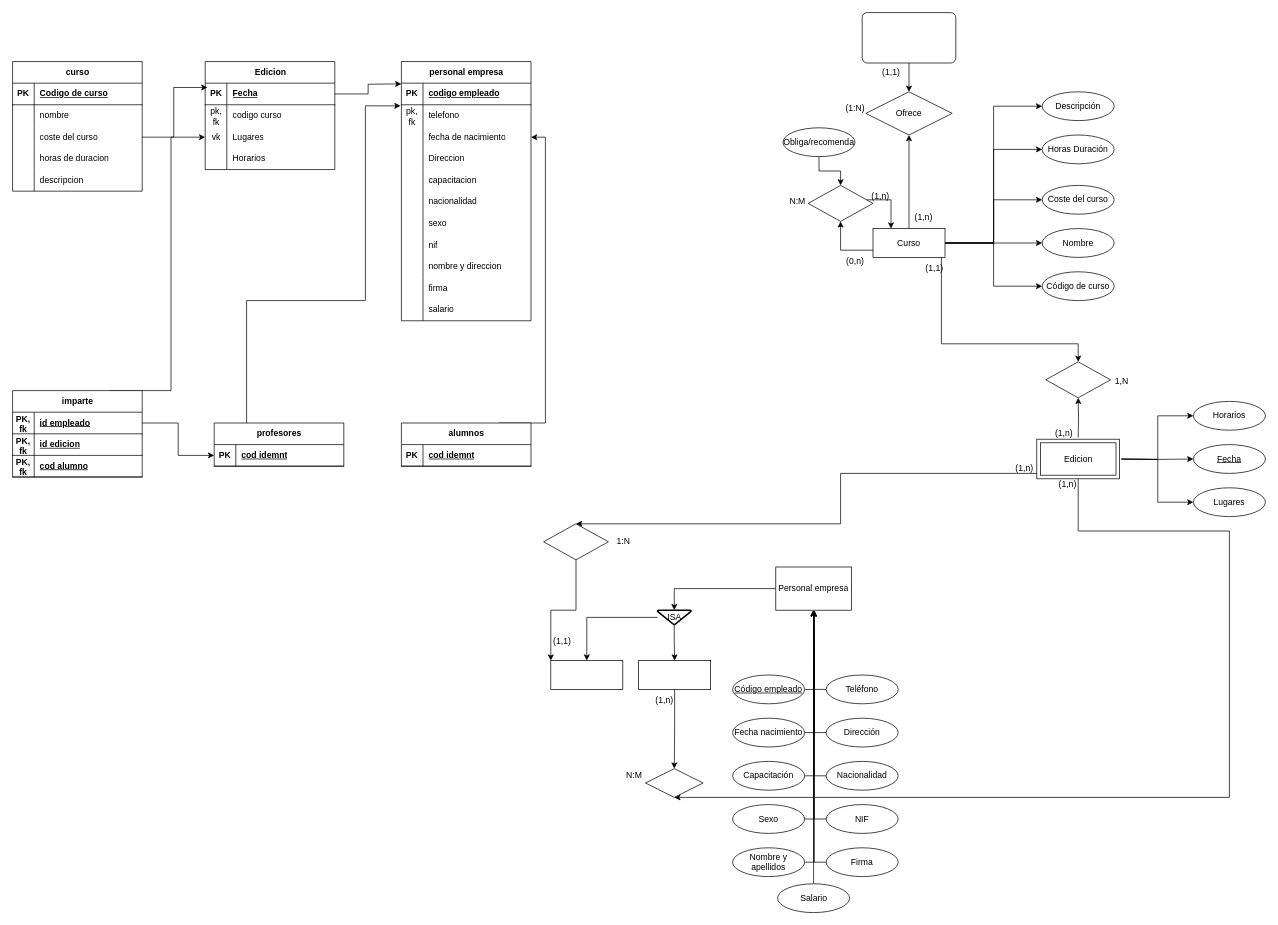
The diagram is 1278 pixels wide and 925 high, and some of its shapes have lost their labels. Here are the shapes that lost their labels. From the top down, the centre of each, then its label:
At point (908, 37): "Empresa".
At point (840, 203): "Prerrequisito".
At point (1078, 379): "Tiene".
At point (575, 541): "Imparten".
At point (586, 674): "Docente".
At point (674, 674): "Alumno".
At point (674, 782): "Realiza".
